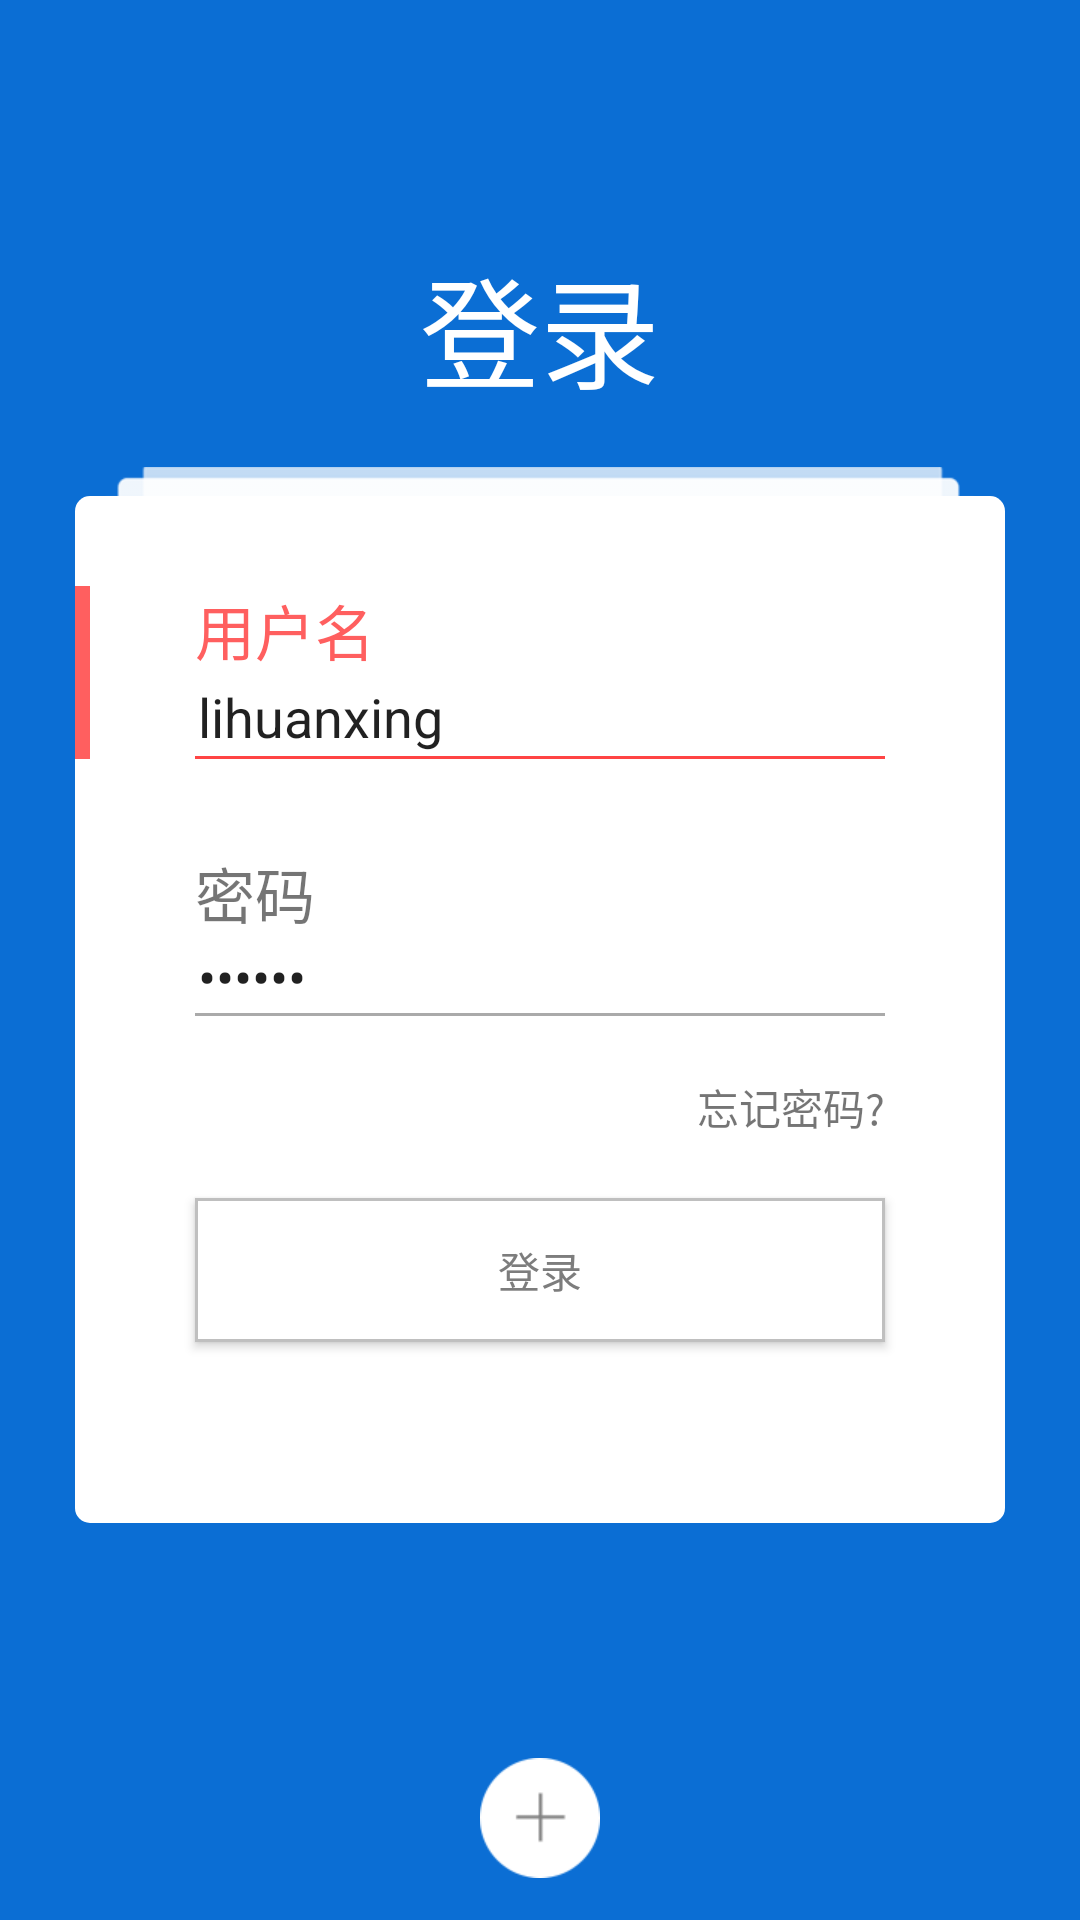

Where to tap for icons on this 1080px x 1920px app screen, as (x=x, y=y):
add: (x=540, y=1818)
